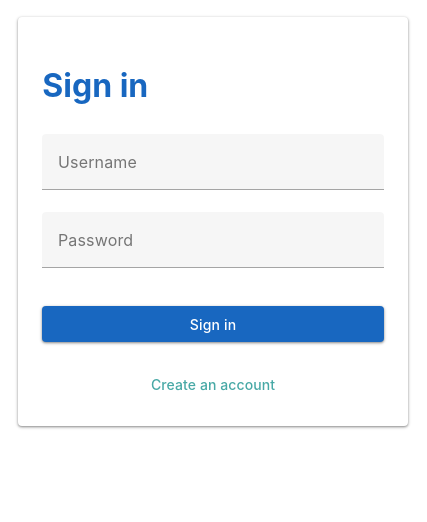
Scenario: Feature 1 — Login view › US-1.2 — Sign in › User signs in with invalid password
This screenshot has width=427, height=522.
Type "jdoe" into the field labelled "Username". click: [213, 162]
box: [42,134,384,190]
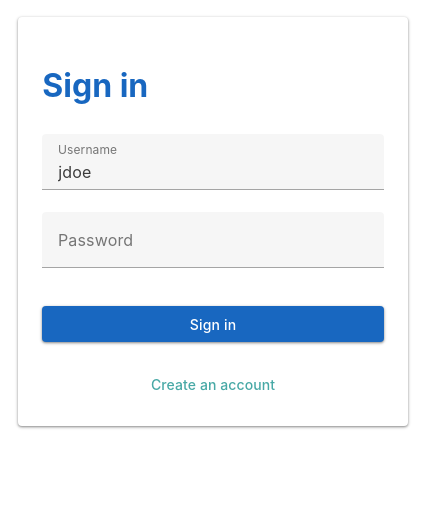
Type "wrongpassword" into the password field labelled "Password". click: [213, 240]
box: [42,212,384,268]
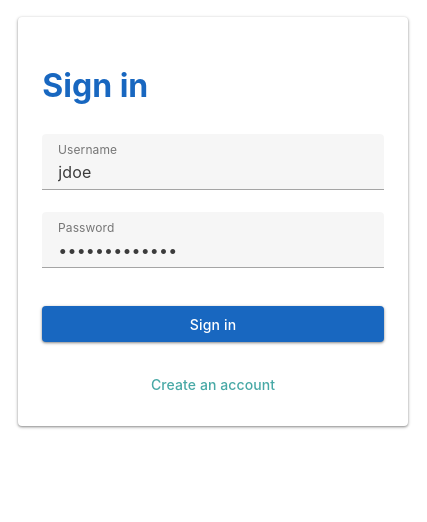
Submit the form, box [42,134,384,342]
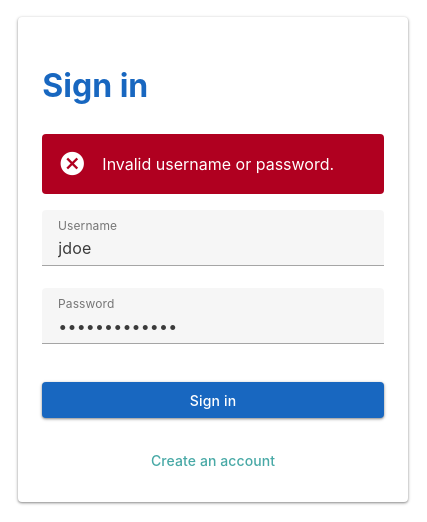
Expected: the message "Invalid username or password." is shown, [42,134,384,194]
